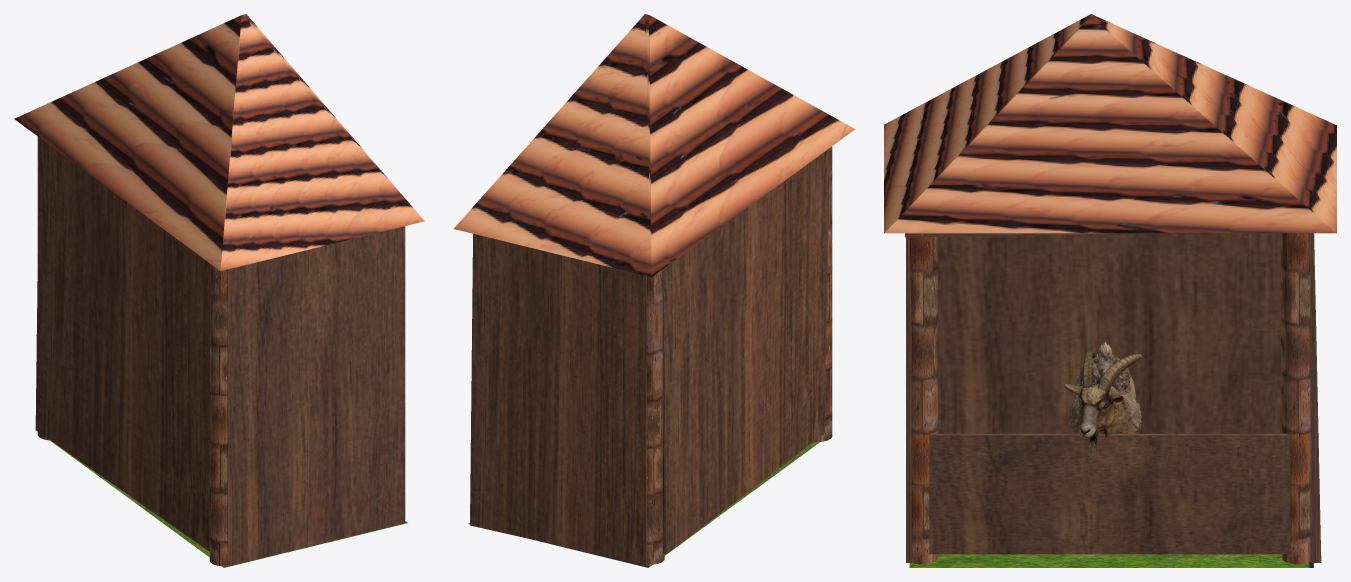
Rendered from shop.glb.
The picture shows the model from 3 angles, left to right: view 1: azimuth 30°, elevation 25°; view 2: azimuth 150°, elevation 25°; view 3: azimuth 270°, elevation 25°; orthographic projection. The views are drawn at different scales.
Parts seen in each view (by area): view 1: Cube.005, Cube.001, Cube.004, Cylinder.002, Plane; view 2: Cube.005, Cube.002, Cube.004, Cylinder.003, Cylinder.002, Plane; view 3: Cube.005, Cube.004, Cube, Cylinder.001, Cylinder, Object_01, Plane, Cube.002, Cube.001, Cube.003.
Boxes of the visible parts, <box> form: Cube.005: <box>14,14,424,271</box>; Cube.001: <box>227,226,405,566</box>; Cube.004: <box>35,138,210,551</box>; Cylinder.002: <box>209,264,227,566</box>; Plane: <box>50,440,407,567</box>; Cube.005: <box>453,14,855,277</box>; Cube.002: <box>470,234,646,565</box>; Cube.004: <box>662,148,829,554</box>; Cylinder.003: <box>647,269,664,564</box>; Cylinder.002: <box>814,146,832,441</box>; Plane: <box>469,441,819,567</box>; Cube.005: <box>884,14,1336,233</box>; Cube.004: <box>938,233,1280,433</box>; Cube: <box>929,433,1290,554</box>; Cylinder.001: <box>1282,233,1310,564</box>; Cylinder: <box>909,233,937,564</box>; Object_01: <box>1064,342,1141,453</box>; Plane: <box>909,554,1313,567</box>; Cube.002: <box>1310,233,1321,562</box>; Cube.001: <box>906,237,911,562</box>; Cube.003: <box>905,233,1176,237</box>.
Bounding box in the file's own units: 25.71 × 51.6 × 41.58.
Materials: 12 (12 with a texture image).
